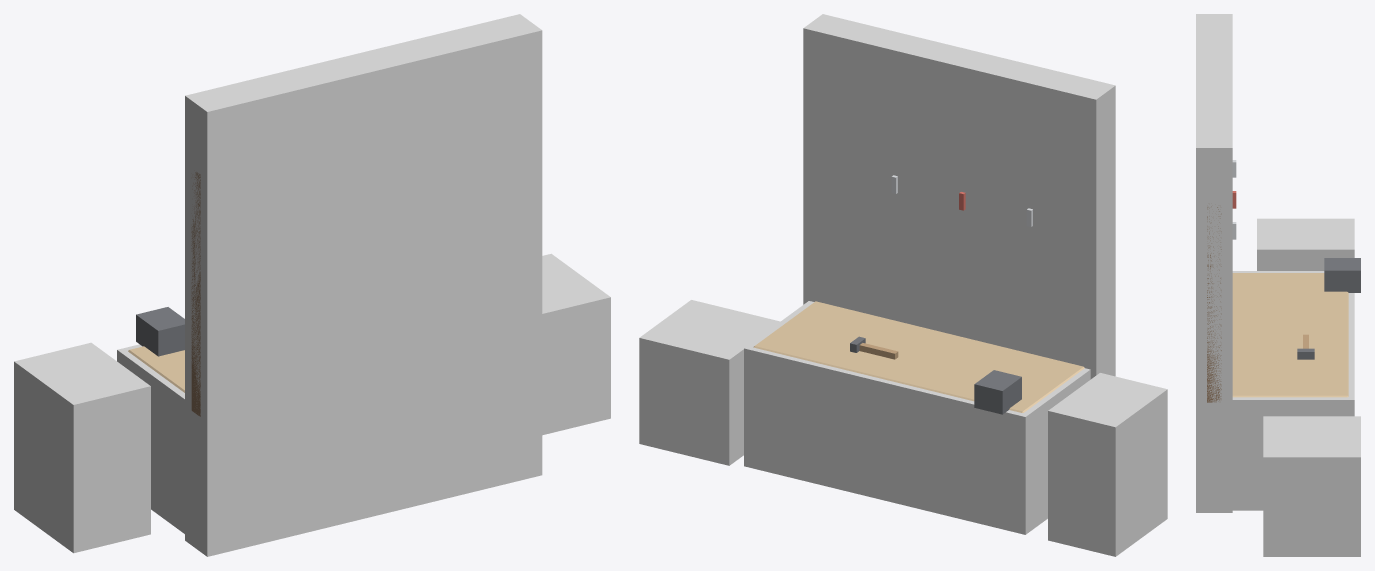
The model's file is Workbench.fbx.
3 views of the same model, side by side, from view 1: azimuth 30°, elevation 25°; view 2: azimuth 150°, elevation 25°; view 3: azimuth 270°, elevation 25° (orthographic). The views are drawn at different scales.
Visible parts, largest first — view 1: COL_Board, COL_Grind, COL_Anvil, COL_Bench, Workbench_Mesh; view 2: COL_Board, COL_Bench, COL_Grind, Workbench_Mesh, COL_Anvil; view 3: COL_Board, Workbench_Mesh, COL_Anvil, COL_Bench, COL_Grind.
Part boxes in pixels (x1,y1,x2,y2): COL_Board: [185, 14, 542, 556]; COL_Grind: [14, 342, 150, 553]; COL_Anvil: [542, 253, 610, 435]; COL_Bench: [117, 344, 184, 533]; Workbench_Mesh: [128, 172, 200, 416]; COL_Board: [803, 14, 1115, 379]; COL_Bench: [744, 301, 1090, 534]; COL_Grind: [1048, 373, 1167, 556]; Workbench_Mesh: [753, 175, 1084, 414]; COL_Anvil: [639, 300, 780, 465]; COL_Board: [1196, 14, 1232, 512]; Workbench_Mesh: [1207, 160, 1360, 402]; COL_Anvil: [1263, 416, 1360, 556]; COL_Bench: [1232, 271, 1354, 510]; COL_Grind: [1257, 218, 1354, 270].
Size of the model in its own units: 4.2 by 3.3 by 1.35.
